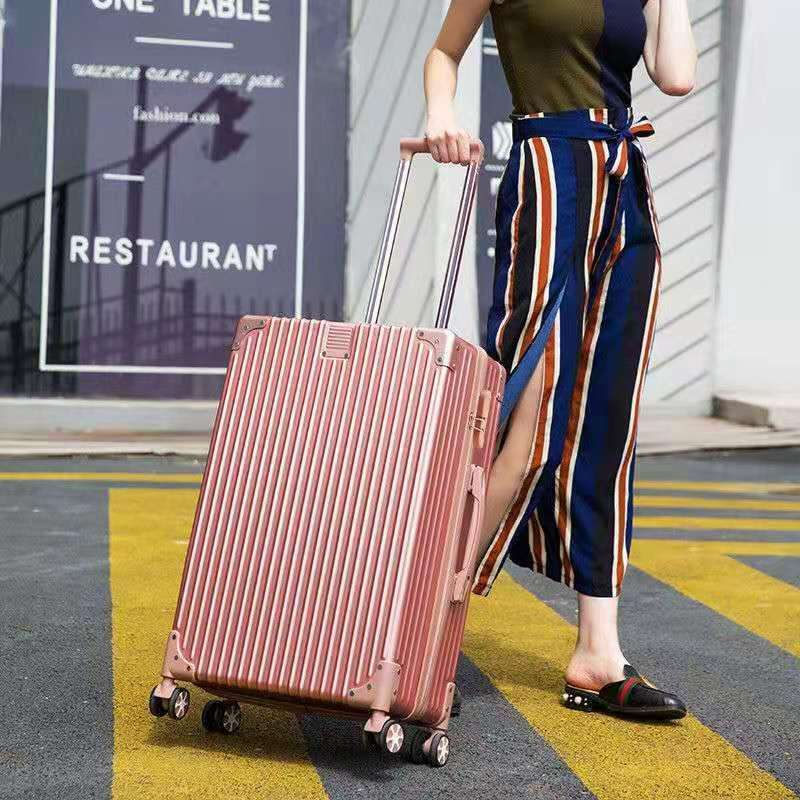box: (161, 314, 508, 726)
handle: (447, 464, 486, 604)
lock: (468, 389, 492, 448)
wheel: (361, 715, 404, 754), (148, 682, 191, 720), (410, 728, 450, 768), (201, 699, 243, 734)
